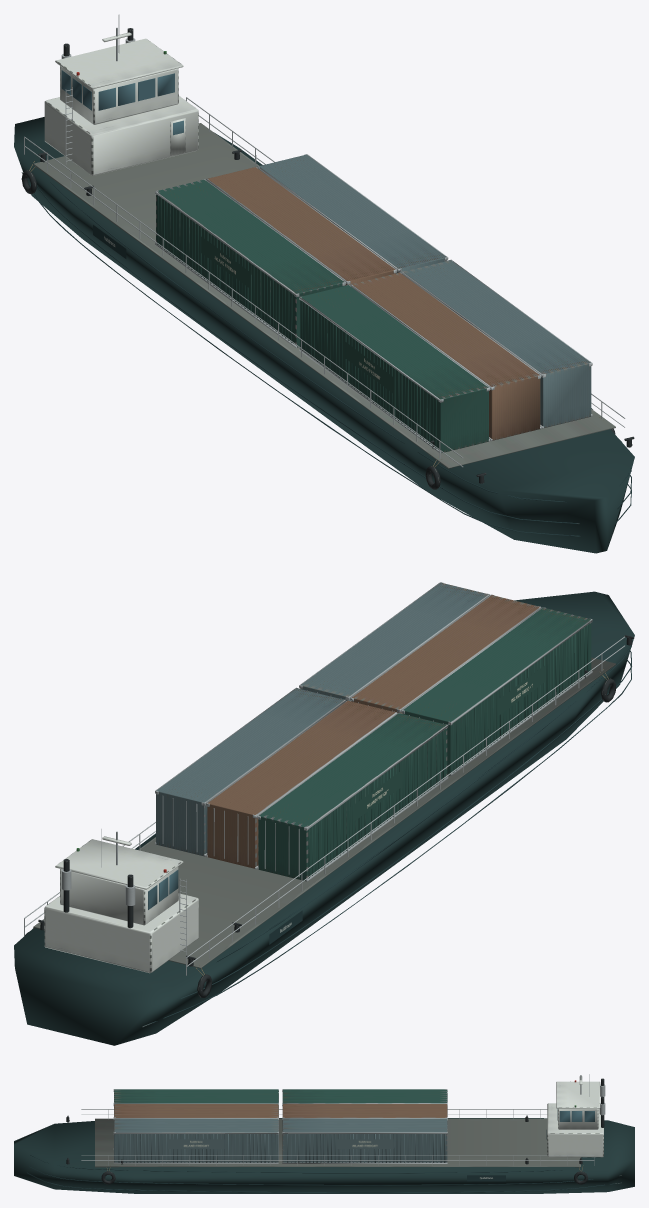
Rendered from inland-container-barge.glb.
3 views of the same model, one above another, from view 1: azimuth 30°, elevation 25°; view 2: azimuth 150°, elevation 25°; view 3: azimuth 270°, elevation 25° (orthographic). The views are drawn at different scales.
Visible parts, largest first — view 1: inland-container-barge_marine-topcoat, inland-container-barge_marine-container-_315951 (×2), inland-container-barge_marine-container-_7c6250 (×2), inland-container-barge_marine-container-_5d7479 (×2), inland-container-barge_marine-deck, inland-container-barge_marine-cabin, inland-container-barge_transport-brushed-steel, inland-container-barge_bridge-laminated-glass, inland-container-barge_shipping-mark-ink, inland-container-barge_transport-chassis; view 2: inland-container-barge_marine-topcoat, inland-container-barge_marine-container-_315951 (×2), inland-container-barge_marine-container-_7c6250 (×2), inland-container-barge_marine-container-_5d7479 (×2), inland-container-barge_marine-cabin, inland-container-barge_marine-deck, inland-container-barge_transport-brushed-steel, inland-container-barge_shipping-mark-ink, inland-container-barge_transport-chassis; view 3: inland-container-barge_marine-topcoat, inland-container-barge_marine-container-_5d7479 (×2), inland-container-barge_marine-deck, inland-container-barge_marine-container-_315951 (×2), inland-container-barge_marine-container-_7c6250 (×2), inland-container-barge_transport-brushed-steel, inland-container-barge_marine-cabin, inland-container-barge_shipping-mark-ink, inland-container-barge_transport-chassis, inland-container-barge_bridge-laminated-glass, inland-container-barge_vessel-name-ink.
Part boxes in pixels (x1,y1,x2,y2): inland-container-barge_marine-topcoat: (14,117,634,553); inland-container-barge_marine-container-_315951 (×2): (156,179,488,452); inland-container-barge_marine-container-_7c6250 (×2): (208,167,540,440); inland-container-barge_marine-container-_5d7479 (×2): (259,154,591,427); inland-container-barge_marine-deck: (33,123,615,468); inland-container-barge_marine-cabin: (44,32,198,175); inland-container-barge_transport-brushed-steel: (24,14,625,467); inland-container-barge_bridge-laminated-glass: (61,70,183,135); inland-container-barge_shipping-mark-ink: (201,236,393,393); inland-container-barge_transport-chassis: (21,28,634,489); inland-container-barge_marine-topcoat: (14,591,634,1045); inland-container-barge_marine-container-_315951 (×2): (258,607,591,881); inland-container-barge_marine-container-_7c6250 (×2): (207,595,539,868); inland-container-barge_marine-container-_5d7479 (×2): (156,582,488,856); inland-container-barge_marine-cabin: (44,836,198,973); inland-container-barge_marine-deck: (33,657,615,968); inland-container-barge_transport-brushed-steel: (24,582,624,975); inland-container-barge_shipping-mark-ink: (353,664,546,821); inland-container-barge_transport-chassis: (25,635,634,997); inland-container-barge_marine-topcoat: (14,1118,634,1193); inland-container-barge_marine-container-_5d7479 (×2): (114,1118,447,1162); inland-container-barge_marine-deck: (95,1118,580,1167); inland-container-barge_marine-container-_315951 (×2): (114,1089,447,1103); inland-container-barge_marine-container-_7c6250 (×2): (114,1104,447,1117); inland-container-barge_transport-brushed-steel: (81,1074,605,1165); inland-container-barge_marine-cabin: (547,1076,603,1157); inland-container-barge_shipping-mark-ink: (168,1139,393,1148); inland-container-barge_transport-chassis: (66,1078,604,1184); inland-container-barge_bridge-laminated-glass: (546,1109,594,1139); inland-container-barge_vessel-name-ink: (467,1175,505,1181).
Size of the model in its own units: 9.46 by 8.4 by 46.
Materials: 19 (15 with a texture image).
